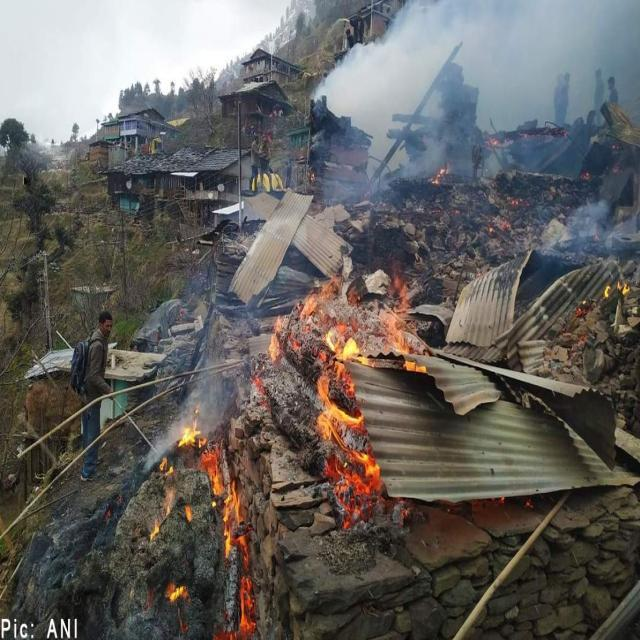Fire: (200, 446, 260, 640), (321, 352, 386, 520), (388, 279, 425, 373), (173, 416, 200, 447)
Smoke: (338, 3, 637, 174), (549, 202, 639, 269)
